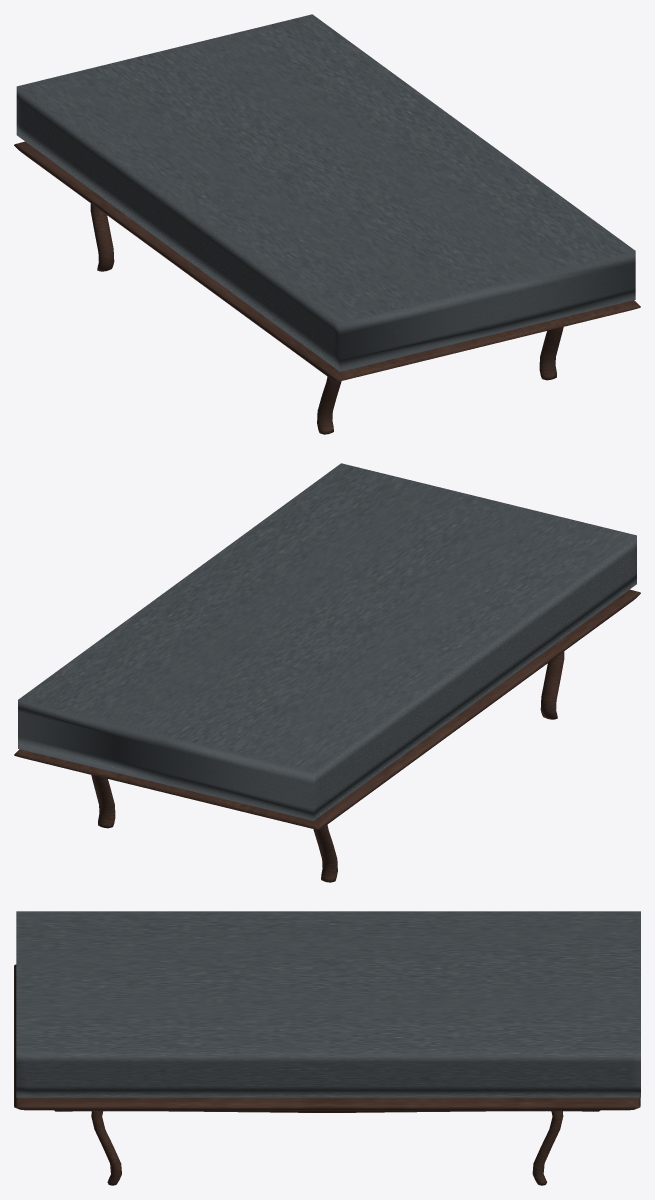
Rendered from _finalFootRest.fbx.
3 renders of one model, top to bottom at view 1: azimuth 30°, elevation 25°; view 2: azimuth 150°, elevation 25°; view 3: azimuth 270°, elevation 25°, orthographic. The views are drawn at different scales.
Visible parts, largest first — view 1: Footrest; view 2: Footrest; view 3: Footrest.
Part boxes in pixels (<box>): Footrest: <box>14,14,640,434</box>; Footrest: <box>14,463,640,882</box>; Footrest: <box>14,911,640,1185</box>.
Size of the model in its own units: 216 by 105 by 396.
1 material, 1 textured.
